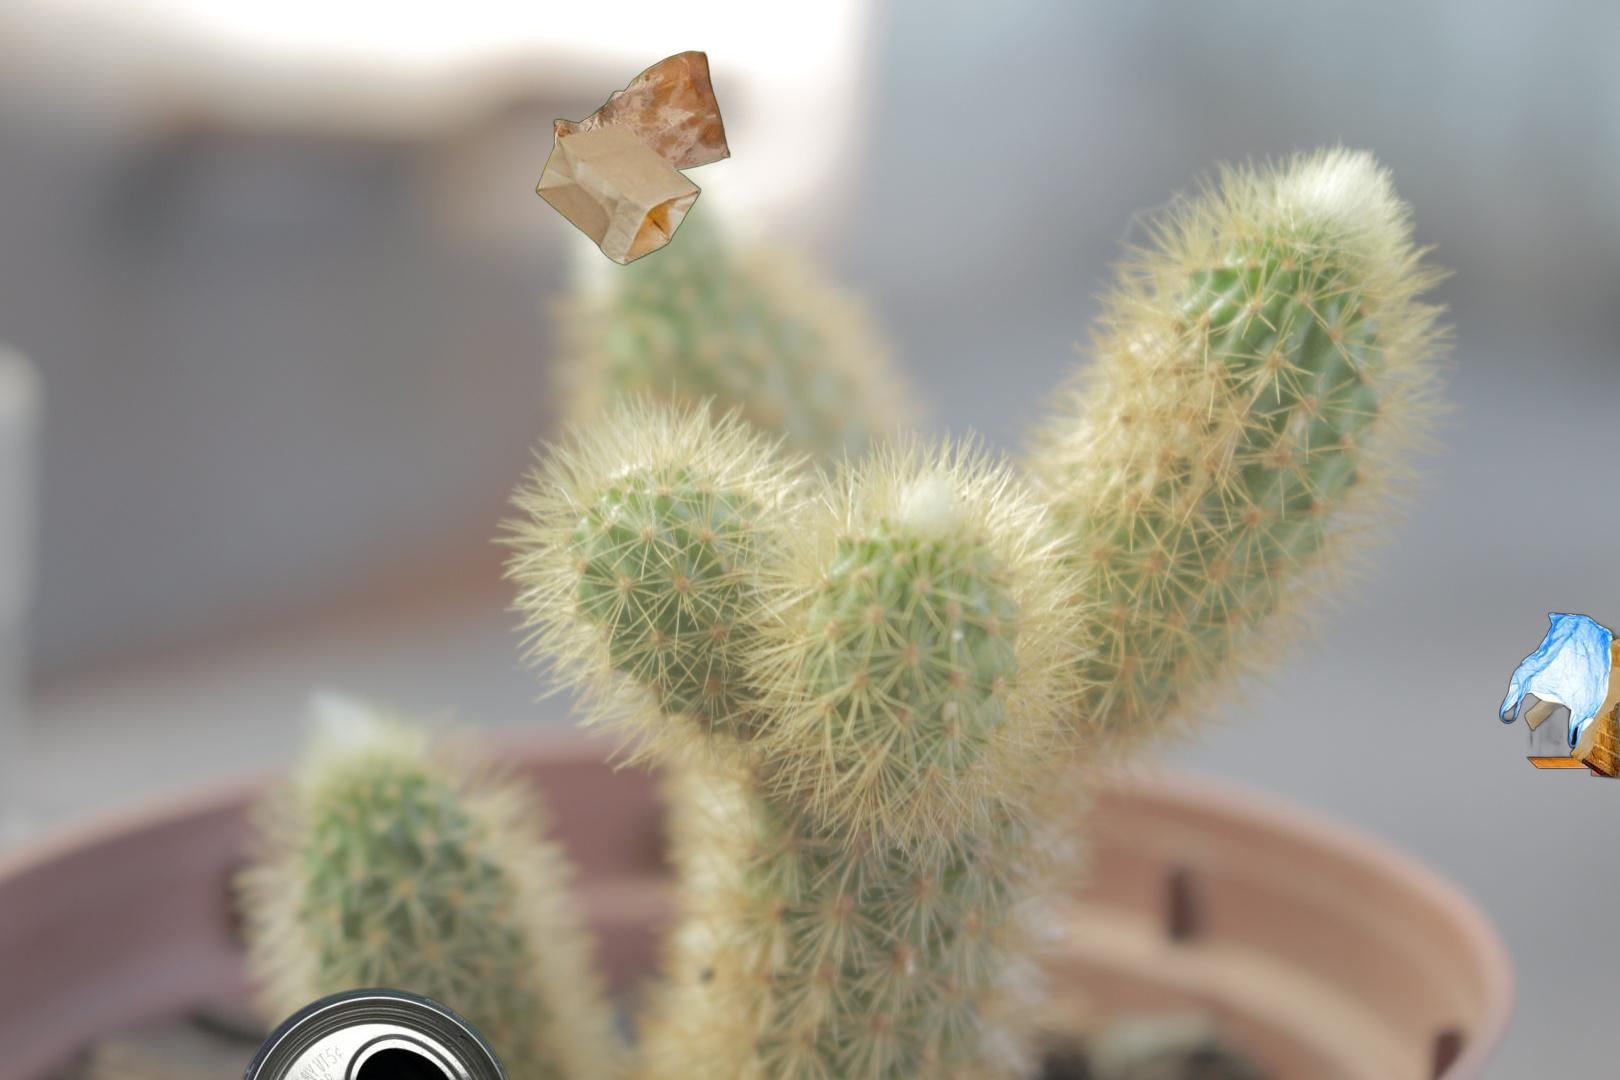metal-cans: (229, 984, 522, 1080)
paper-bag: (533, 48, 732, 268)
plastic-bag: (1497, 595, 1620, 782)
